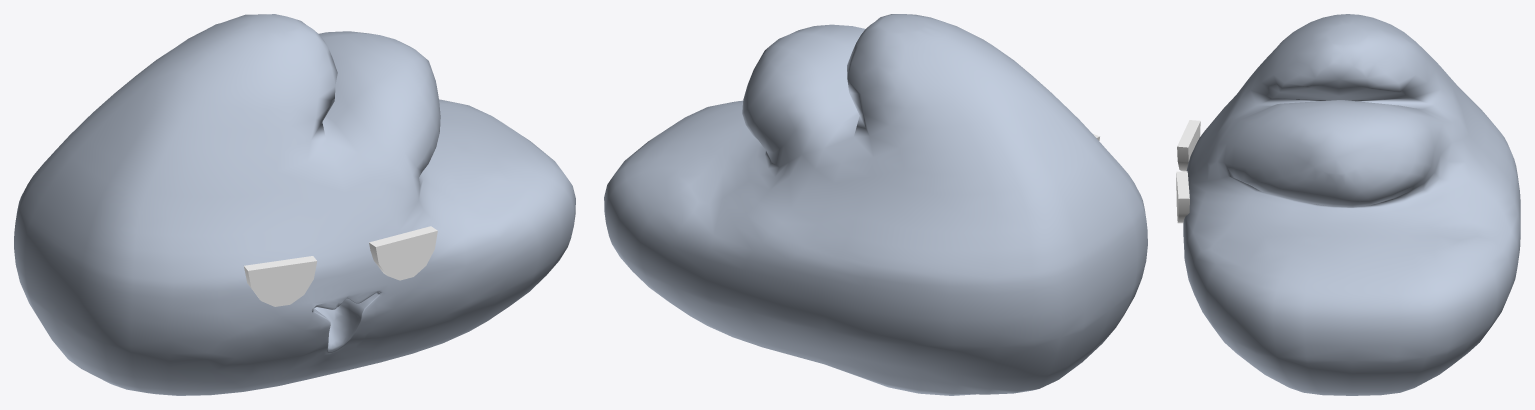
Rendered from ame.fbx.
3 views of the same model, side by side, from view 1: azimuth 30°, elevation 25°; view 2: azimuth 150°, elevation 25°; view 3: azimuth 270°, elevation 25° (orthographic). The views are drawn at different scales.
Parts seen in each view (by area): view 1: polySurface3, polySurface2, polySurface1; view 2: polySurface3; view 3: polySurface3, polySurface2, polySurface1.
Part boxes in pixels (x1,y1,x2,y2): polySurface3: [14, 14, 575, 395]; polySurface2: [244, 256, 317, 306]; polySurface1: [369, 226, 437, 280]; polySurface3: [604, 14, 1147, 395]; polySurface3: [1183, 14, 1520, 395]; polySurface2: [1177, 120, 1200, 171]; polySurface1: [1176, 171, 1189, 223].
Bounding box in the file's own units: 96.99 × 62.89 × 66.82.
